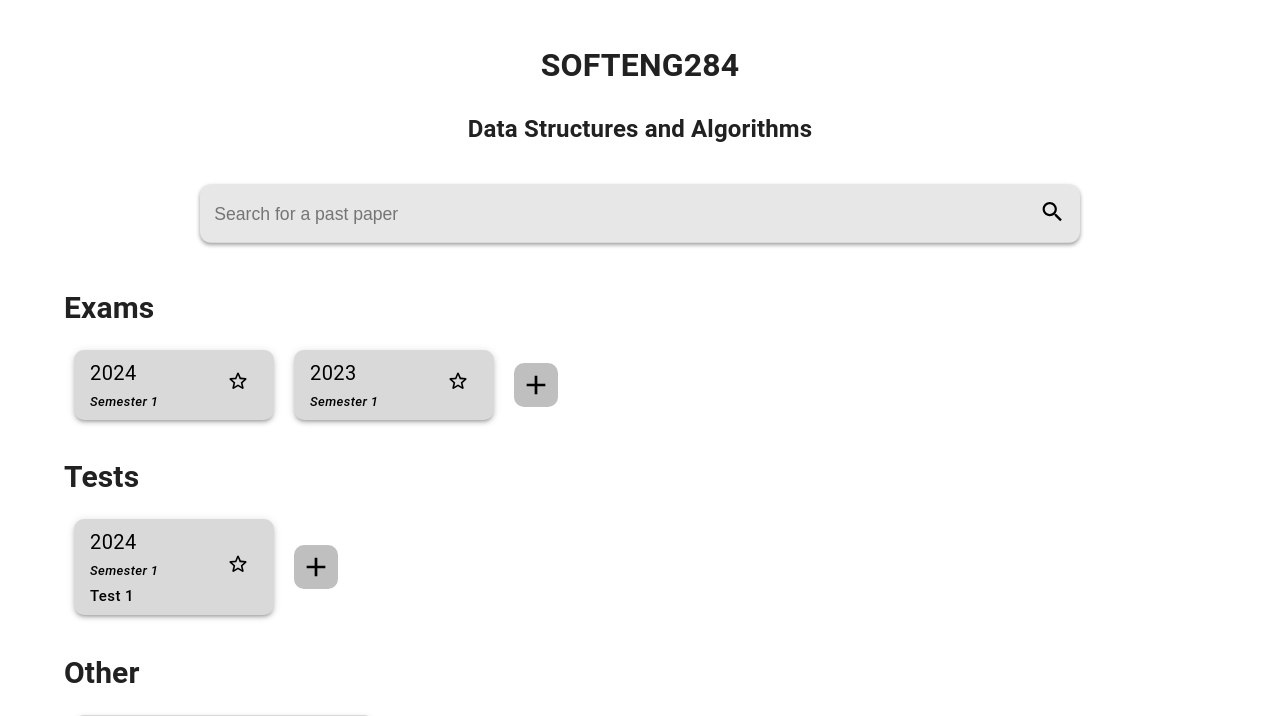
Assessments › filters assessments based on the search text
The width and height of the screenshot is (1280, 716).
Type "2023" into the field with placeholder "Search for a past paper" at (621, 213), box 209,198 -> 1034,229
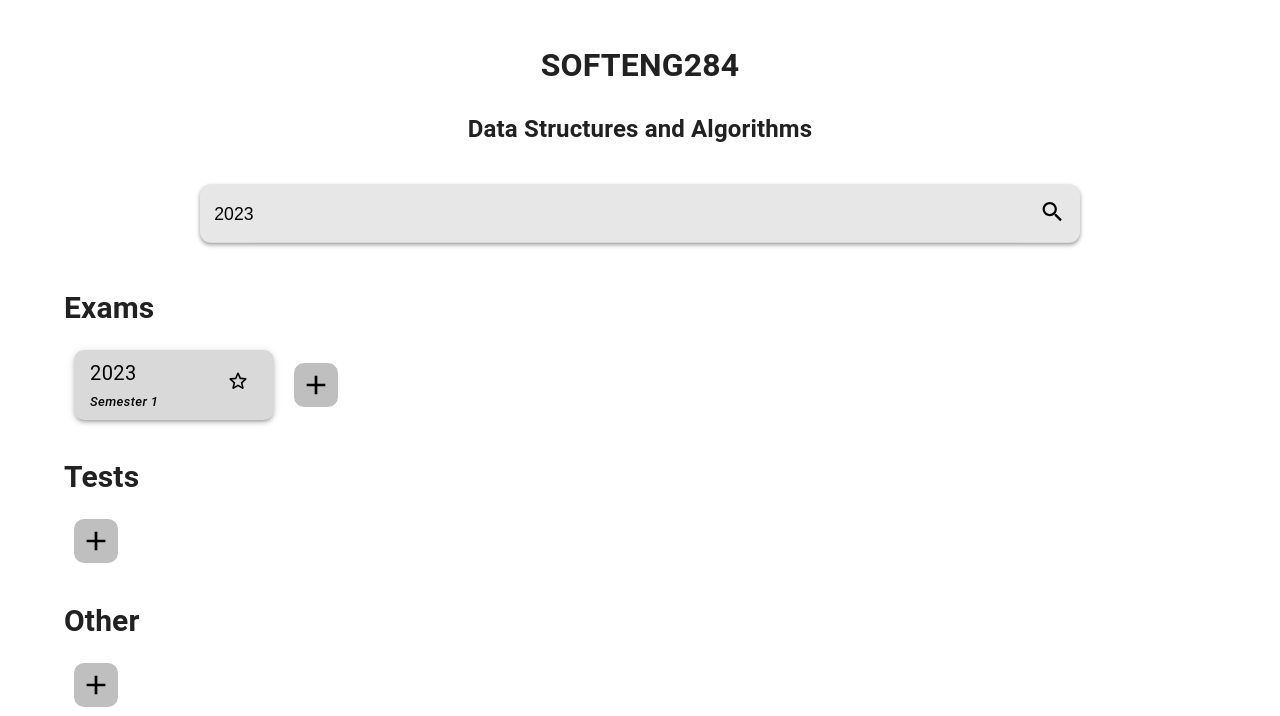
Expected: the text "2023" is shown, 90,361 -> 137,385
Result: the button "2024" is gone
